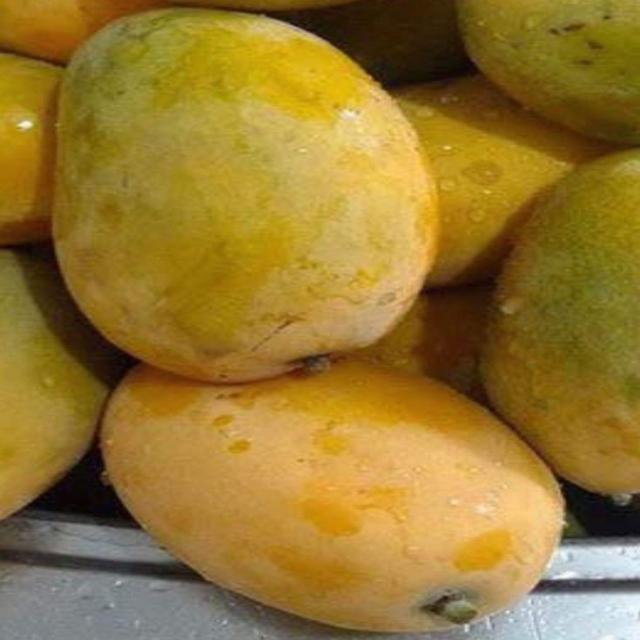mango: (54, 10, 437, 381), (102, 362, 563, 632), (483, 151, 639, 493), (395, 76, 606, 286), (0, 250, 123, 518), (459, 0, 639, 144), (278, 0, 468, 84), (353, 285, 491, 400), (0, 54, 61, 245), (0, 0, 167, 62), (172, 0, 351, 11)
